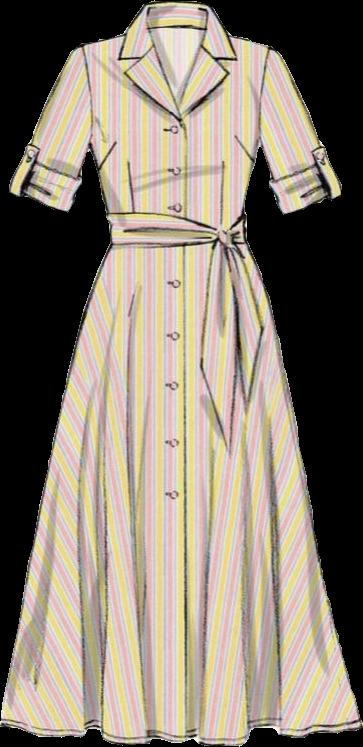Bodice: (79, 1, 272, 247)
Hemline: (0, 715, 362, 746)
Neckline: (143, 0, 212, 115), (107, 207, 246, 237)
Skirt: (1, 240, 362, 745)
Sleeve: (262, 45, 341, 214), (9, 47, 89, 211)
Sleeveline: (79, 45, 96, 154), (258, 46, 274, 147)
Waistline: (116, 29, 242, 123), (106, 237, 248, 252)
